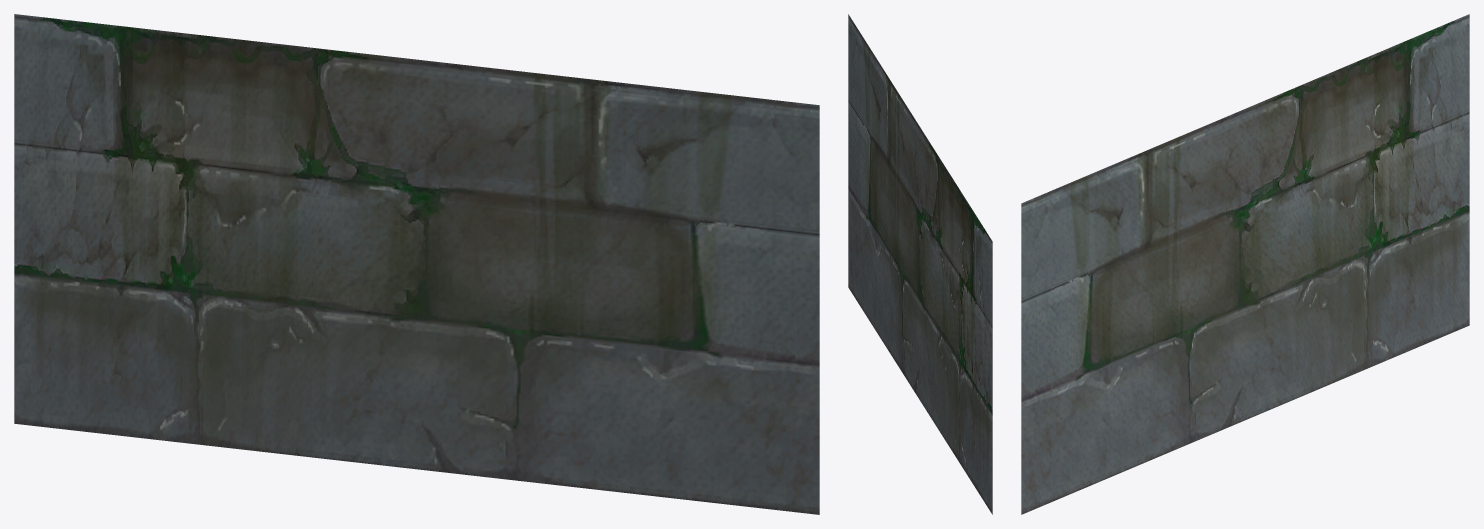
Rendered from stemple_half_diagonal_02.fbx.
3 renders of one model, left to right at view 1: azimuth 30°, elevation 25°; view 2: azimuth 150°, elevation 25°; view 3: azimuth 270°, elevation 25°, orthographic. The views are drawn at different scales.
Parts seen in each view (by area): view 1: sunken_tileset/sunken_wall_straight04_mat; view 2: sunken_tileset/sunken_wall_straight04_mat; view 3: sunken_tileset/sunken_wall_straight04_mat.
Boxes of the visible parts, x1,y1,x2,y2 form: sunken_tileset/sunken_wall_straight04_mat: (14, 14, 819, 514); sunken_tileset/sunken_wall_straight04_mat: (848, 14, 992, 514); sunken_tileset/sunken_wall_straight04_mat: (1021, 14, 1469, 514).
Size of the model in its own units: 3.59 by 2.75 by 3.59.
